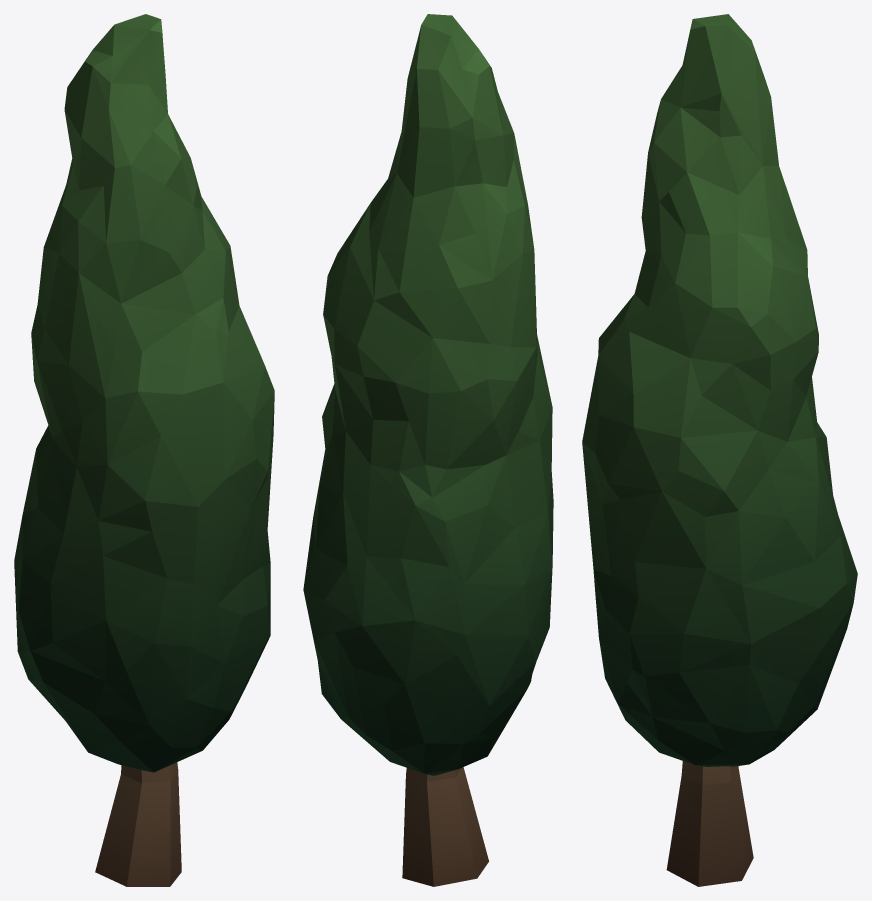
Rendered from cyprys.glb.
3 renders of one model, left to right at view 1: azimuth 30°, elevation 25°; view 2: azimuth 150°, elevation 25°; view 3: azimuth 270°, elevation 25°, orthographic.
Parts seen in each view (by area): view 1: cyprys; view 2: cyprys; view 3: cyprys.
Boxes of the visible parts, x1,y1,x2,y2 form: cyprys: [14, 14, 274, 886]; cyprys: [303, 14, 553, 886]; cyprys: [582, 14, 857, 886].
Size of the model in its own units: 0.5925 by 2.19 by 0.6427.
